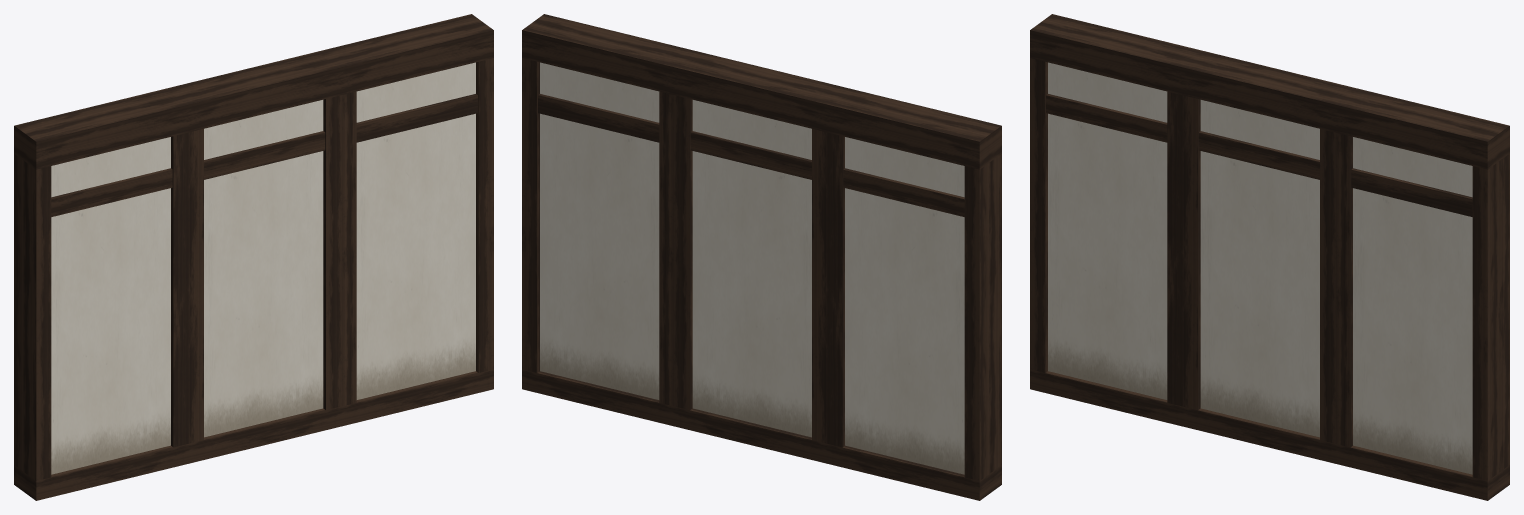
Rendered from HO_Wall_Plaster_Solid_12.fbx.
3 views of the same model, side by side, from view 1: azimuth 30°, elevation 25°; view 2: azimuth 150°, elevation 25°; view 3: azimuth 330°, elevation 25° (orthographic).
Parts seen in each view (by area): view 1: HO_Wall_Plaster_Solid_12__Plaster_White, HO_Wall_Plaster_Solid_12__Timber_Dark; view 2: HO_Wall_Plaster_Solid_12__Plaster_White, HO_Wall_Plaster_Solid_12__Timber_Dark; view 3: HO_Wall_Plaster_Solid_12__Plaster_White, HO_Wall_Plaster_Solid_12__Timber_Dark.
Boxes of the visible parts, box(x1,y1,x2,y2) form: HO_Wall_Plaster_Solid_12__Plaster_White: box(51, 62, 475, 474); HO_Wall_Plaster_Solid_12__Timber_Dark: box(14, 14, 493, 500); HO_Wall_Plaster_Solid_12__Plaster_White: box(540, 62, 964, 474); HO_Wall_Plaster_Solid_12__Timber_Dark: box(522, 14, 1001, 500); HO_Wall_Plaster_Solid_12__Plaster_White: box(1048, 62, 1472, 474); HO_Wall_Plaster_Solid_12__Timber_Dark: box(1030, 14, 1509, 500).
Size of the model in its own units: 12 by 9 by 1.
